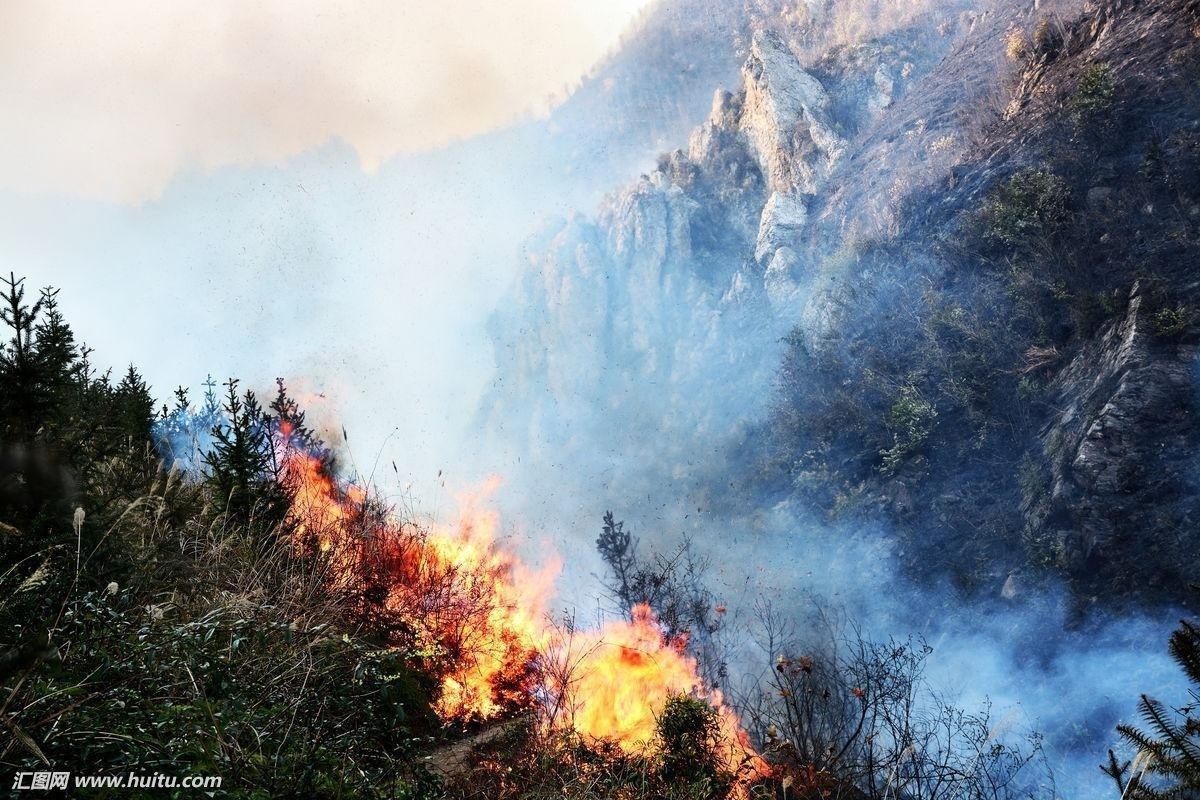fire: (245, 392, 785, 773)
